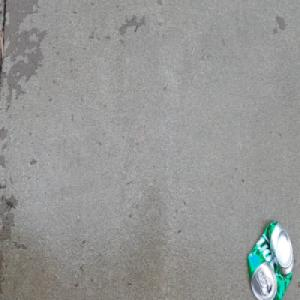SodaCan: (246, 218, 295, 300)
